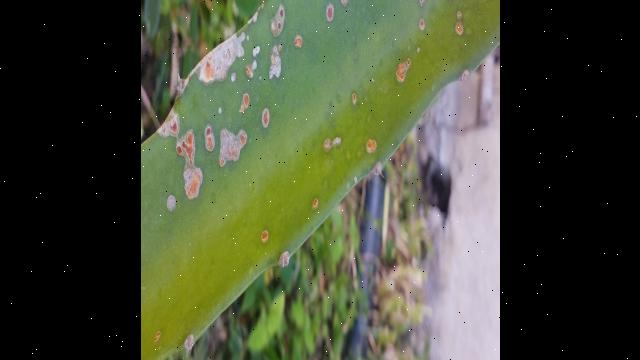stemcanker: (145, 1, 499, 347)
